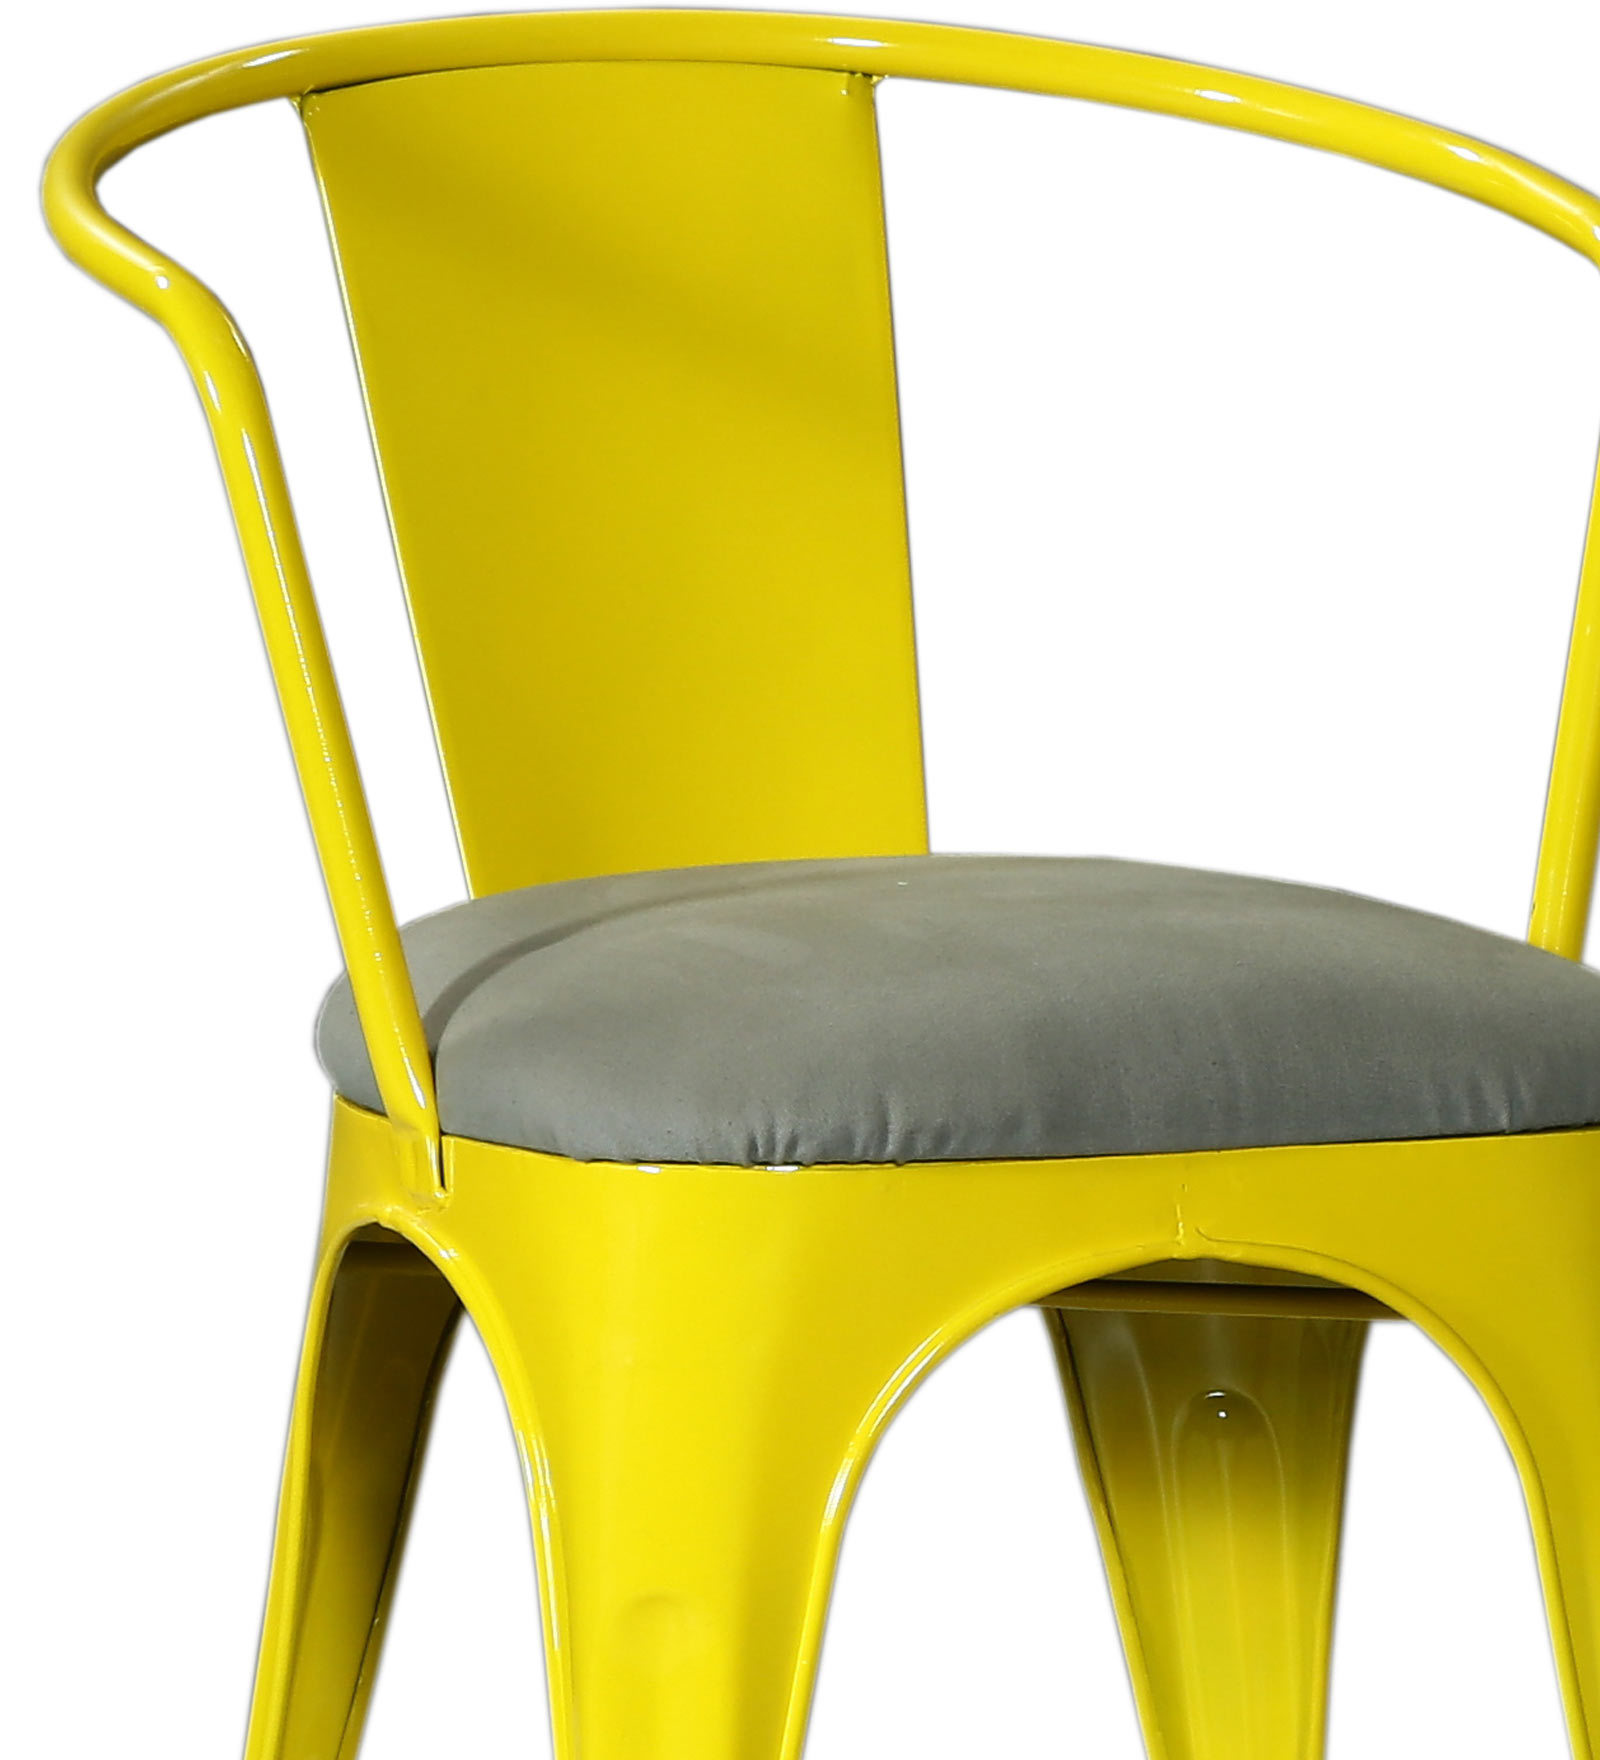Danlou Metal Chair with Cushion in Yellow Color by Bohemiana: (18, 17, 1600, 1648)
